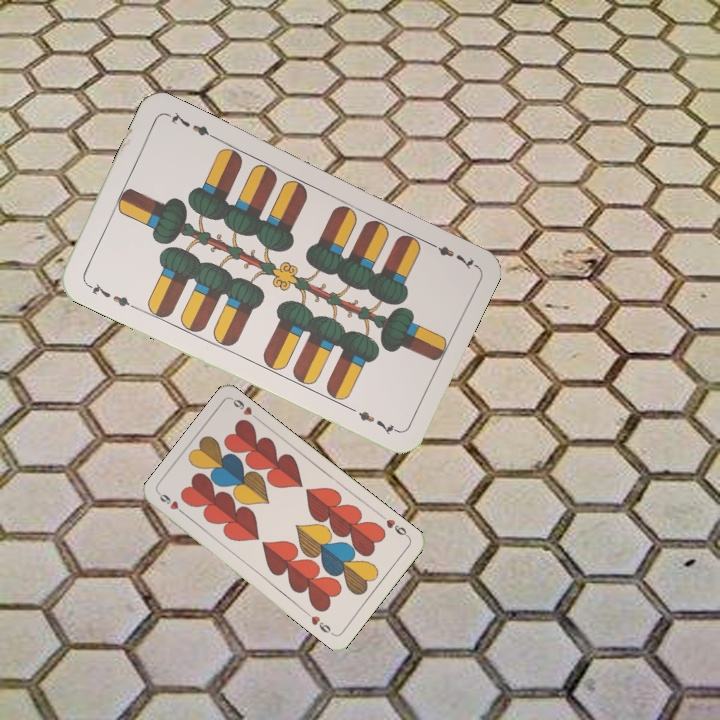E7: (423, 237, 478, 272), (81, 278, 137, 311)
H9: (377, 511, 412, 541), (155, 489, 190, 519)
